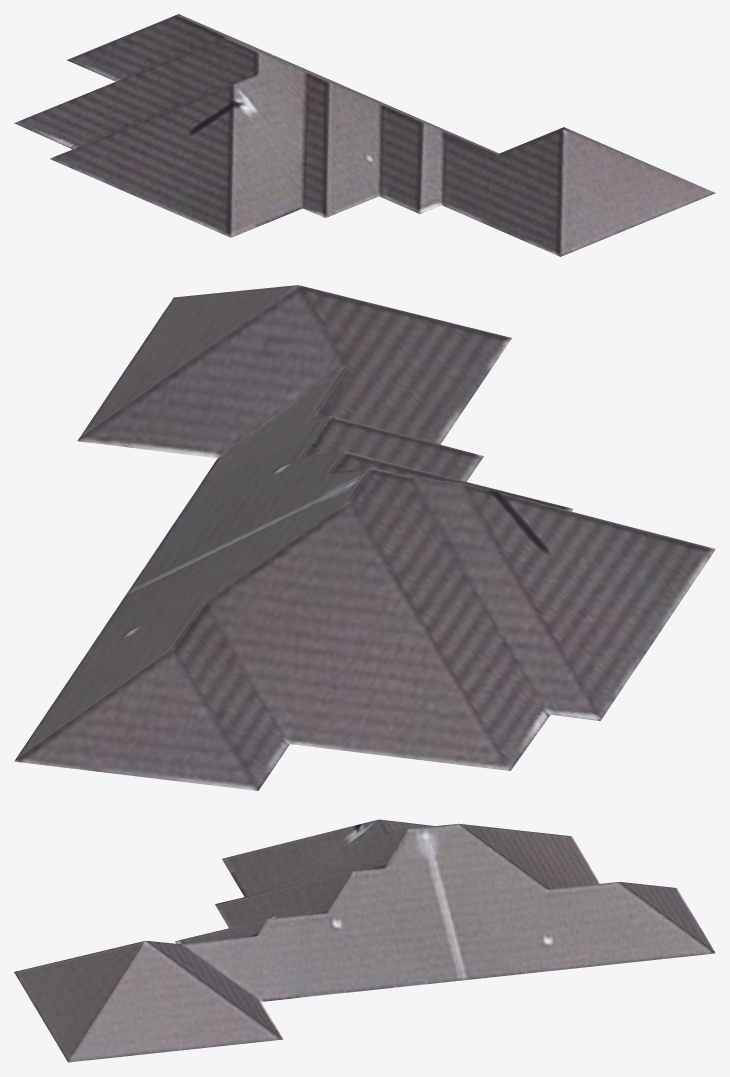
File: BK39_500_017032_0053_roof.obj
3 renders of one model, top to bottom at view 1: azimuth 30°, elevation 25°; view 2: azimuth 150°, elevation 25°; view 3: azimuth 270°, elevation 25°, orthographic. The views are drawn at different scales.
Visible parts, largest first — view 1: BK39_500_017032_0053_roof; view 2: BK39_500_017032_0053_roof; view 3: BK39_500_017032_0053_roof.
Part boxes in pixels (x1,y1,x2,y2): BK39_500_017032_0053_roof: [14, 14, 715, 256]; BK39_500_017032_0053_roof: [14, 285, 715, 790]; BK39_500_017032_0053_roof: [14, 819, 715, 1062].
Size of the model in its own units: 386 by 70 by 495.
1 material, 1 textured.
